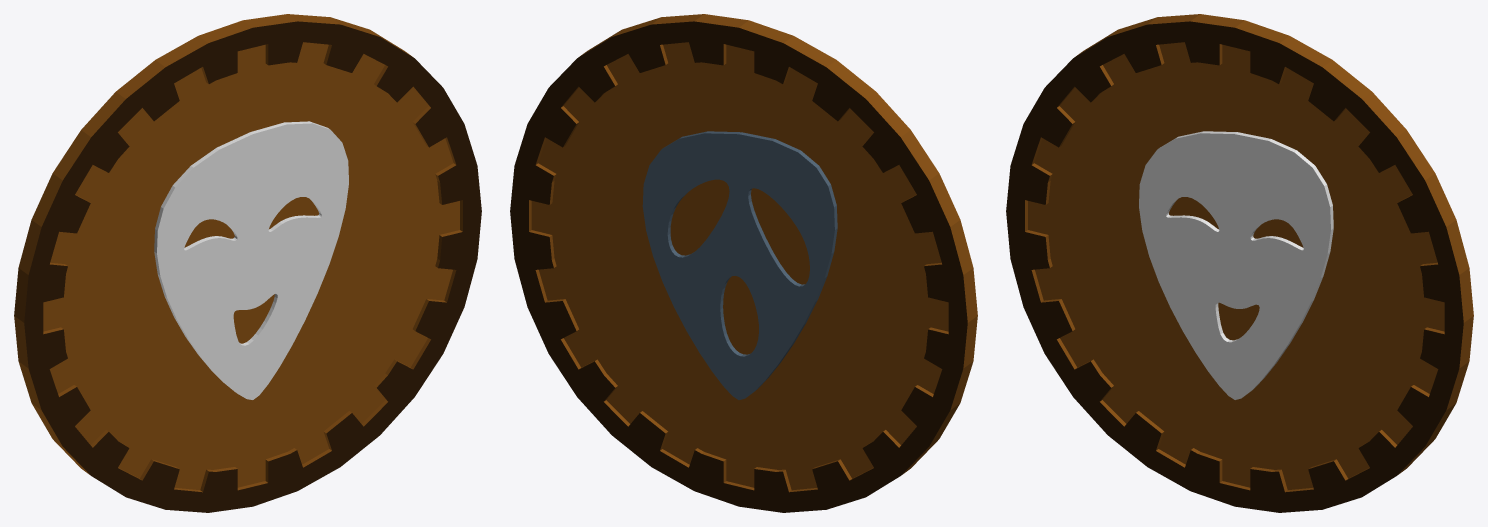
File: DrMalloyDice_d2.glb
3 renders of one model, left to right at view 1: azimuth 30°, elevation 25°; view 2: azimuth 150°, elevation 25°; view 3: azimuth 330°, elevation 25°, orthographic.
Visible parts, largest first — view 1: Coin; view 2: Coin; view 3: Coin.
Part boxes in pixels (left/top/right/bottom): Coin: left=14, top=14, right=481, bottom=512; Coin: left=510, top=14, right=977, bottom=512; Coin: left=1006, top=14, right=1473, bottom=512.
Bounding box in the file's own units: 180 × 180 × 6.96.
